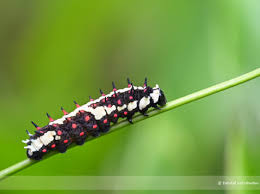Caterpillar: (25, 77, 167, 159)
